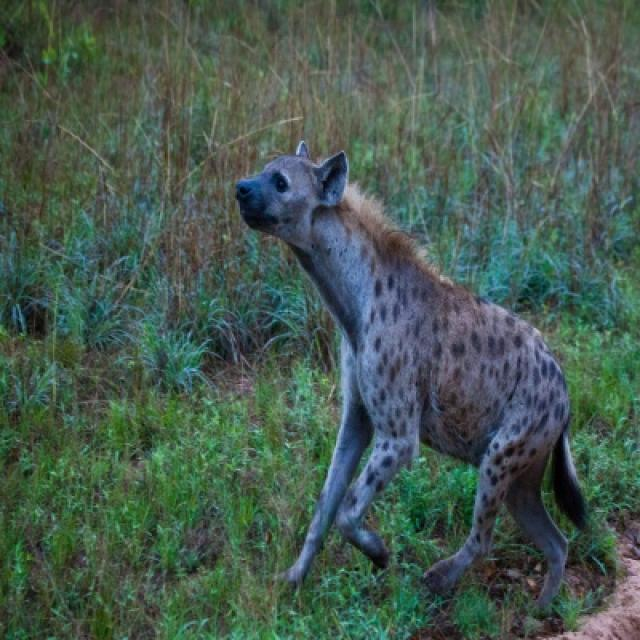hyena: (232, 144, 616, 622)
